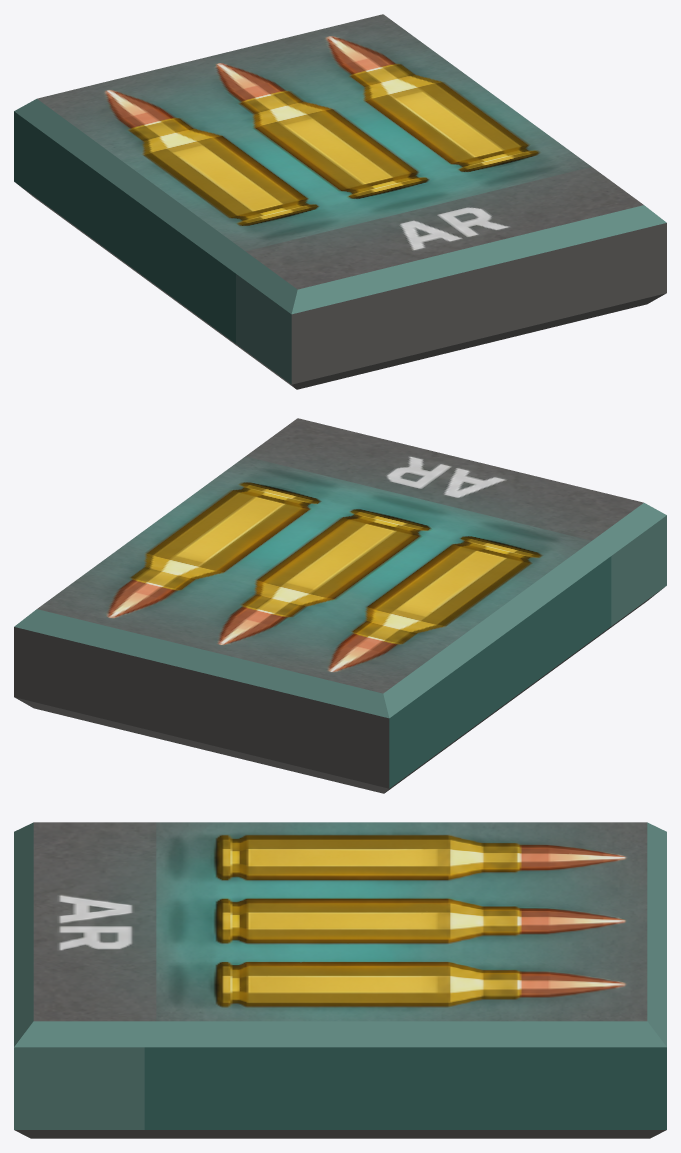
File: assault_rifle_ammo.obj
The picture shows the model from 3 angles, top to bottom: view 1: azimuth 30°, elevation 25°; view 2: azimuth 150°, elevation 25°; view 3: azimuth 270°, elevation 25°; orthographic projection. The views are drawn at different scales.
Visible parts, largest first — view 1: AmmoCarton; view 2: AmmoCarton; view 3: AmmoCarton.
Boxes of the visible parts, bbox=[...] form: AmmoCarton: bbox=[14, 14, 666, 389]; AmmoCarton: bbox=[14, 418, 666, 793]; AmmoCarton: bbox=[14, 822, 666, 1138].
Size of the model in its own units: 1.14 by 0.287 by 1.46.
1 material, 1 textured.
